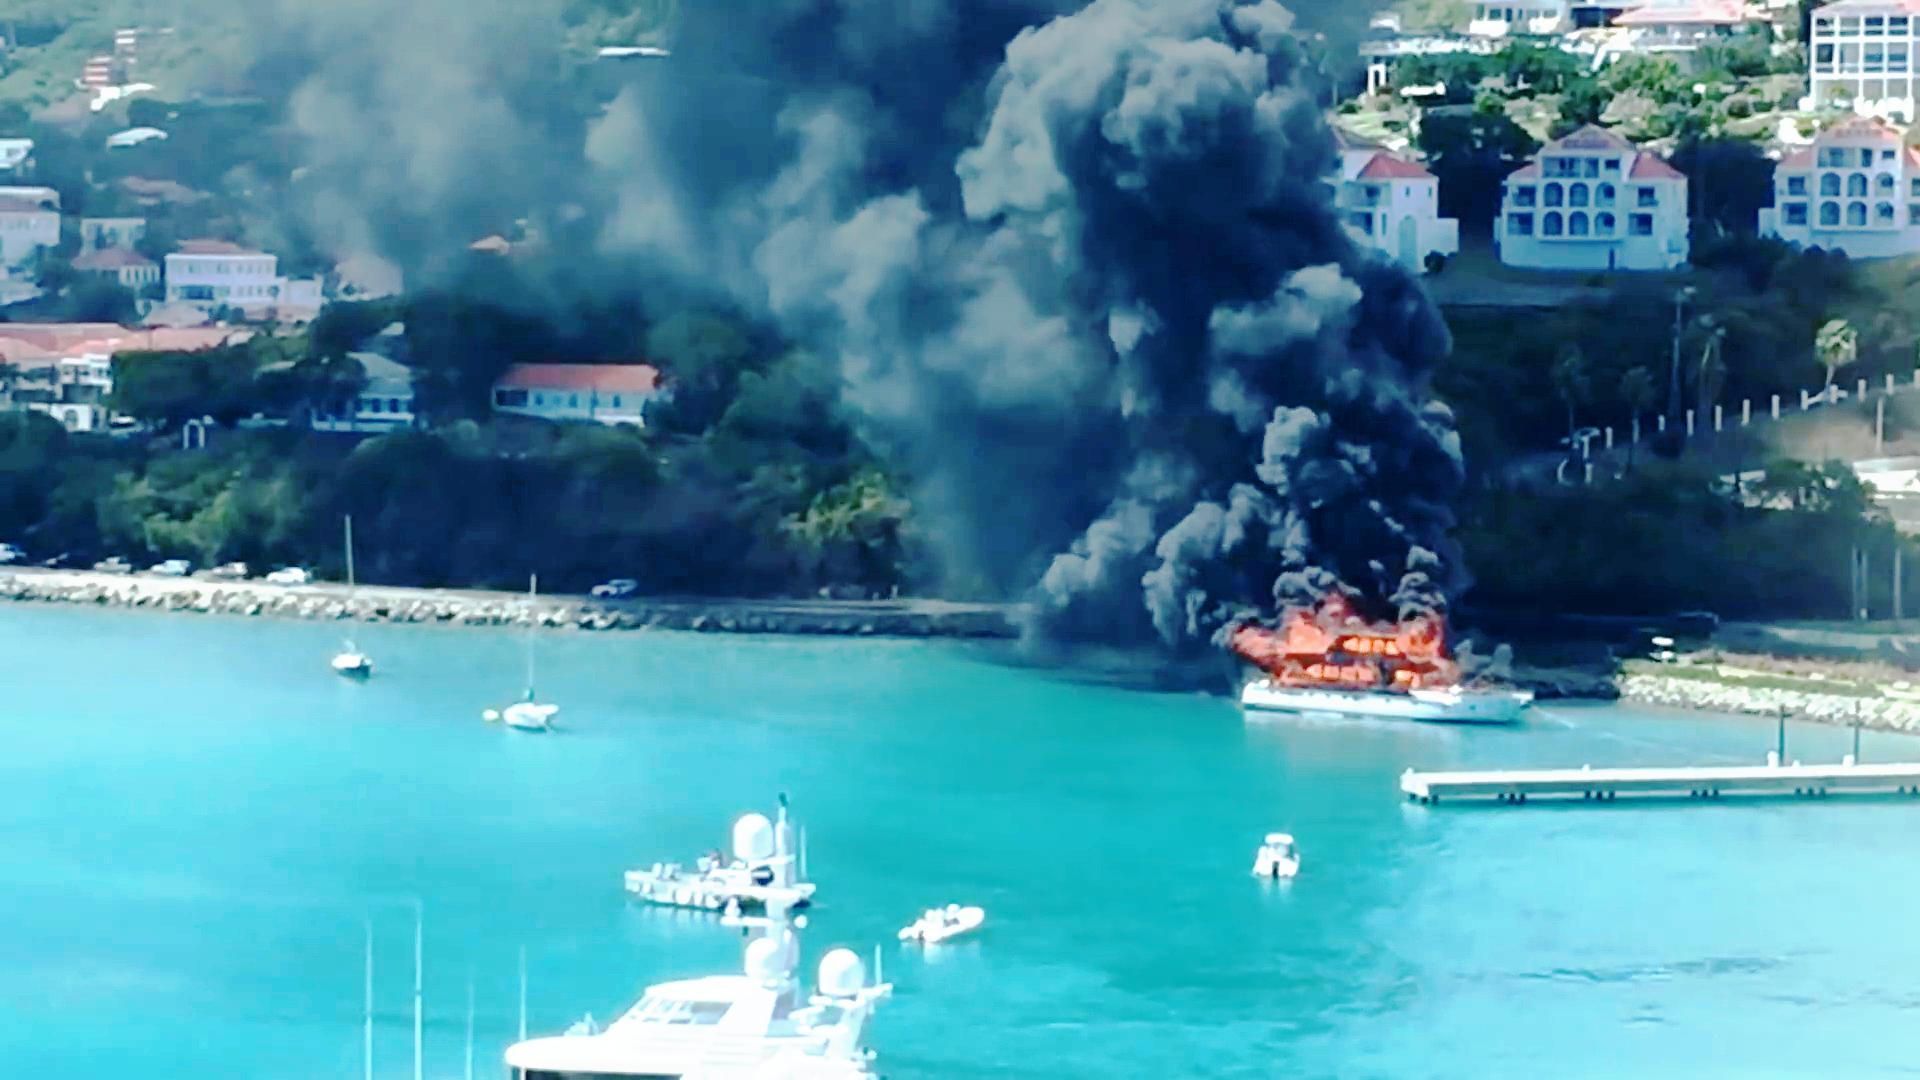fire: (1266, 603, 1449, 691)
smoke: (945, 8, 1427, 571)
